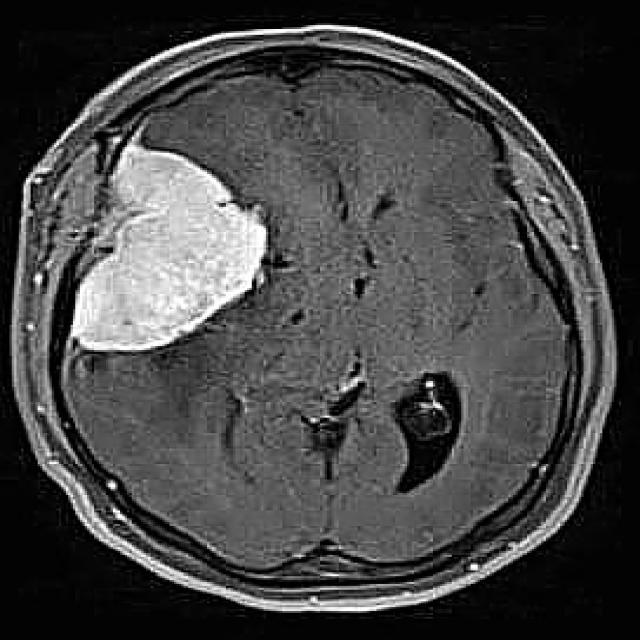Tumor-Cell: (74, 140, 281, 387)
